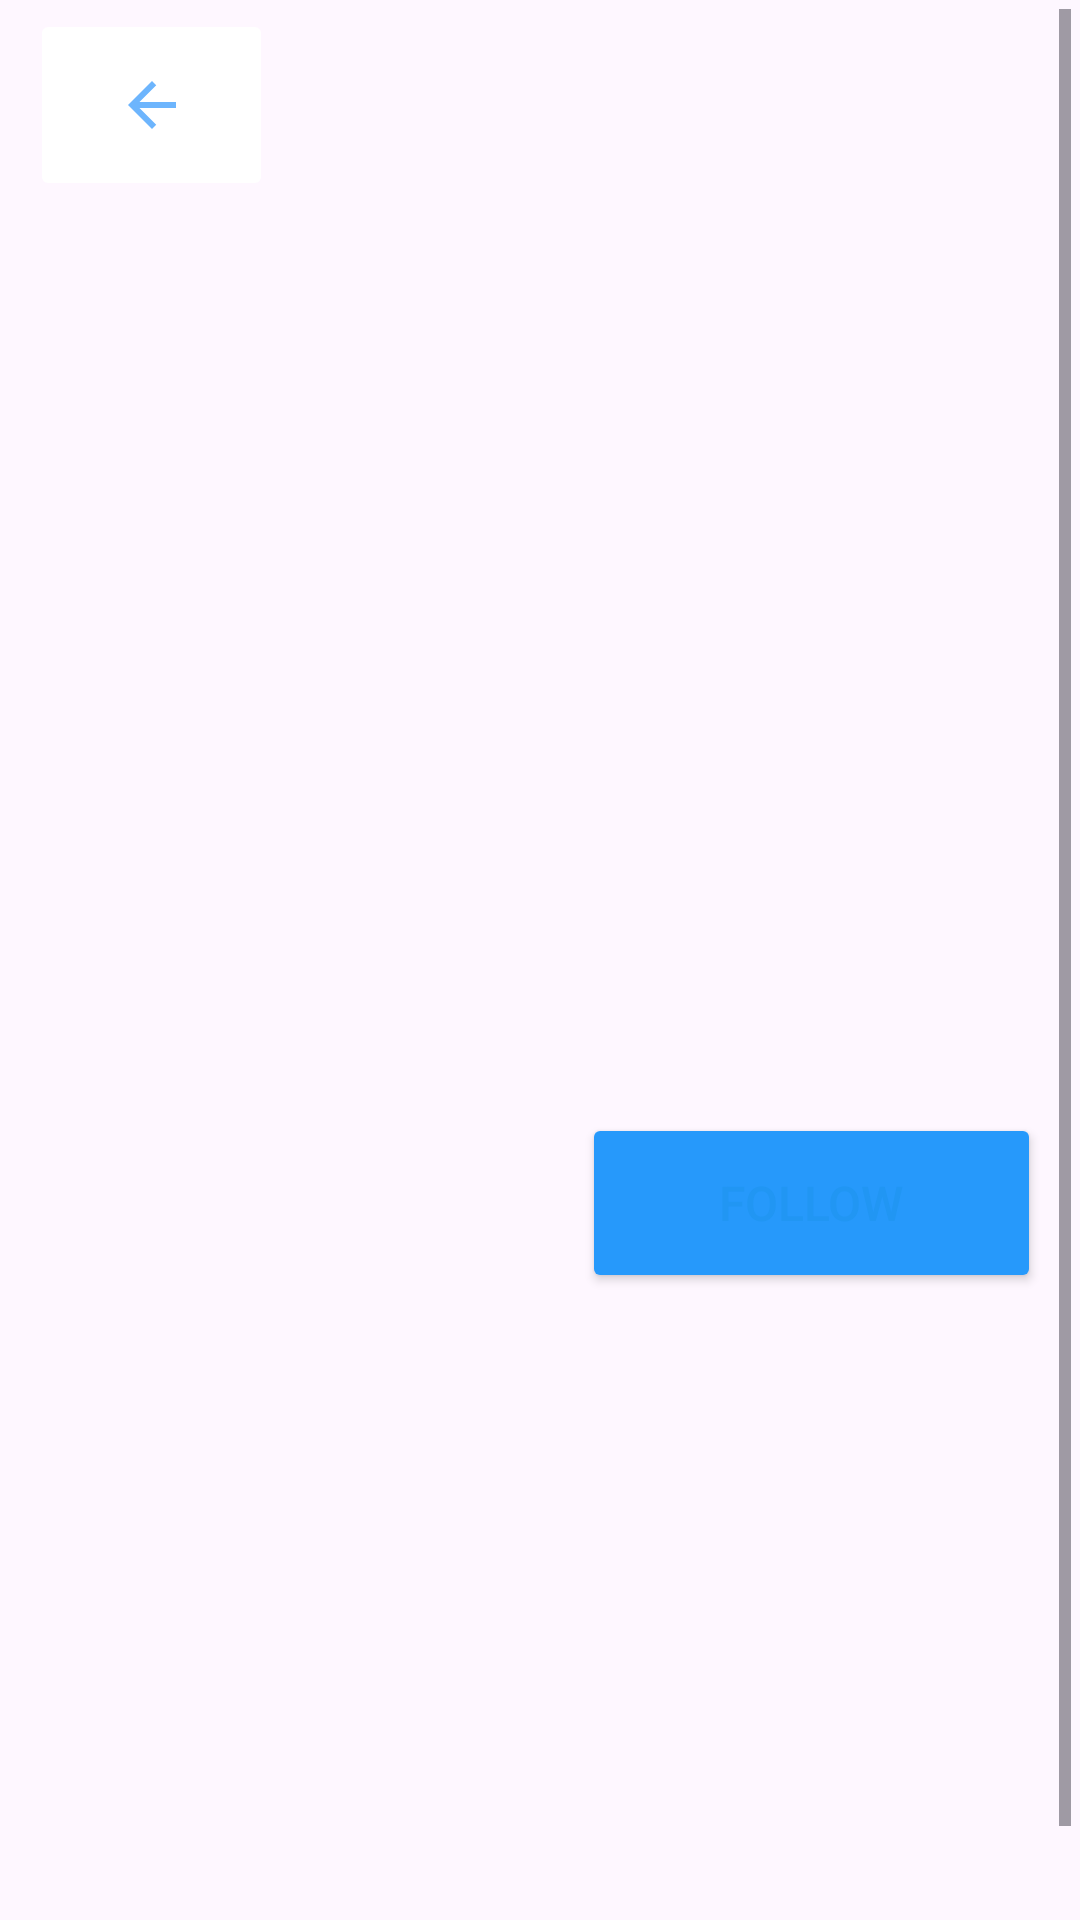

Screen size 1080 x 1920. Icon name, then its box in pixels as box(x1, y1, x2, y2):
arrow back: box(128, 81, 176, 129)
